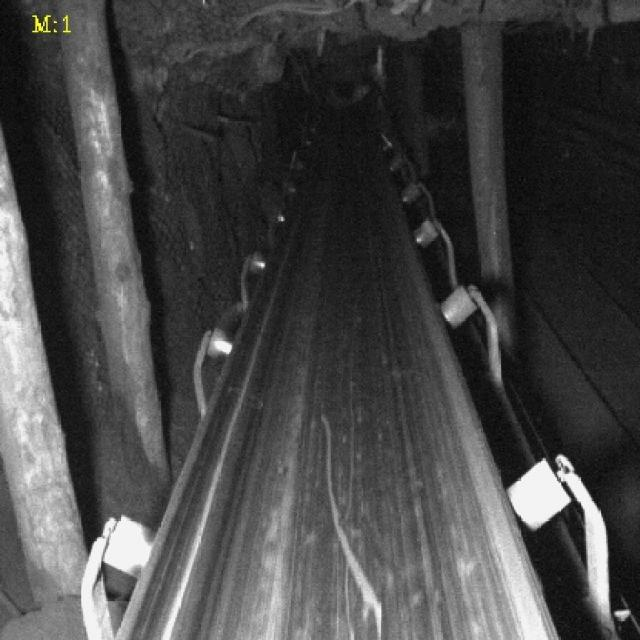bolt: (315, 412, 391, 626)
